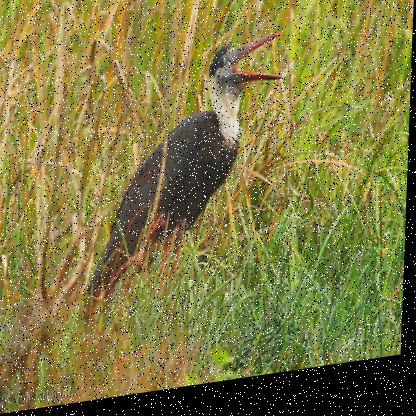Burung: (71, 34, 286, 335)
